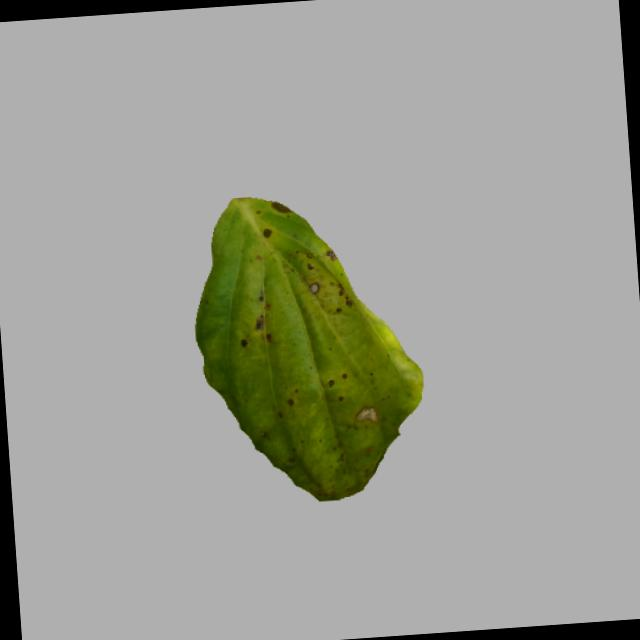yellow-mottle-virus: (172, 175, 430, 508)
